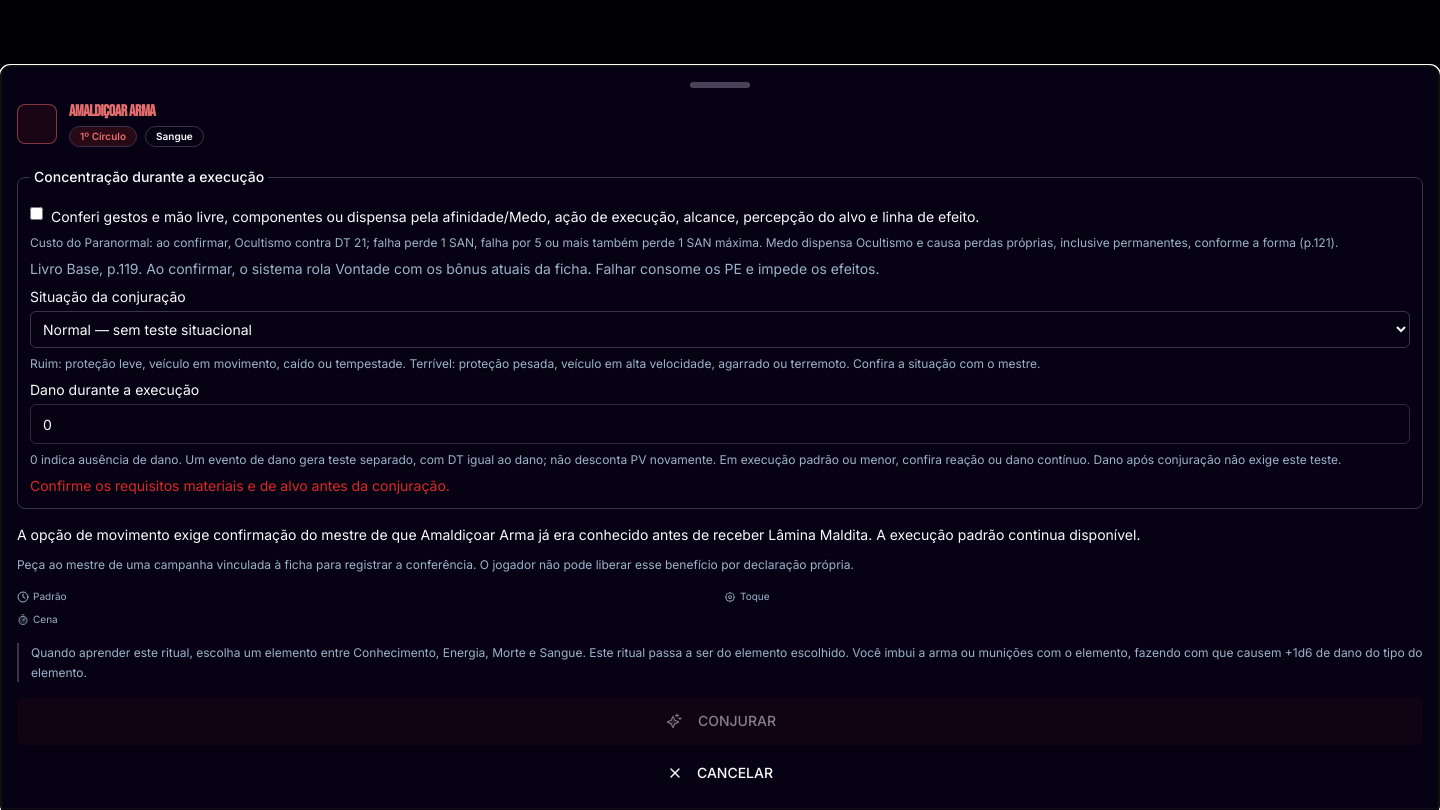
Scenario: Requisitos situacionais mobile › não libera movimento por Lâmina Maldita sem conferência histórica
Click the checkbox labelled "Conferi gestos" at x=36, y=213, box [30,207,43,220]
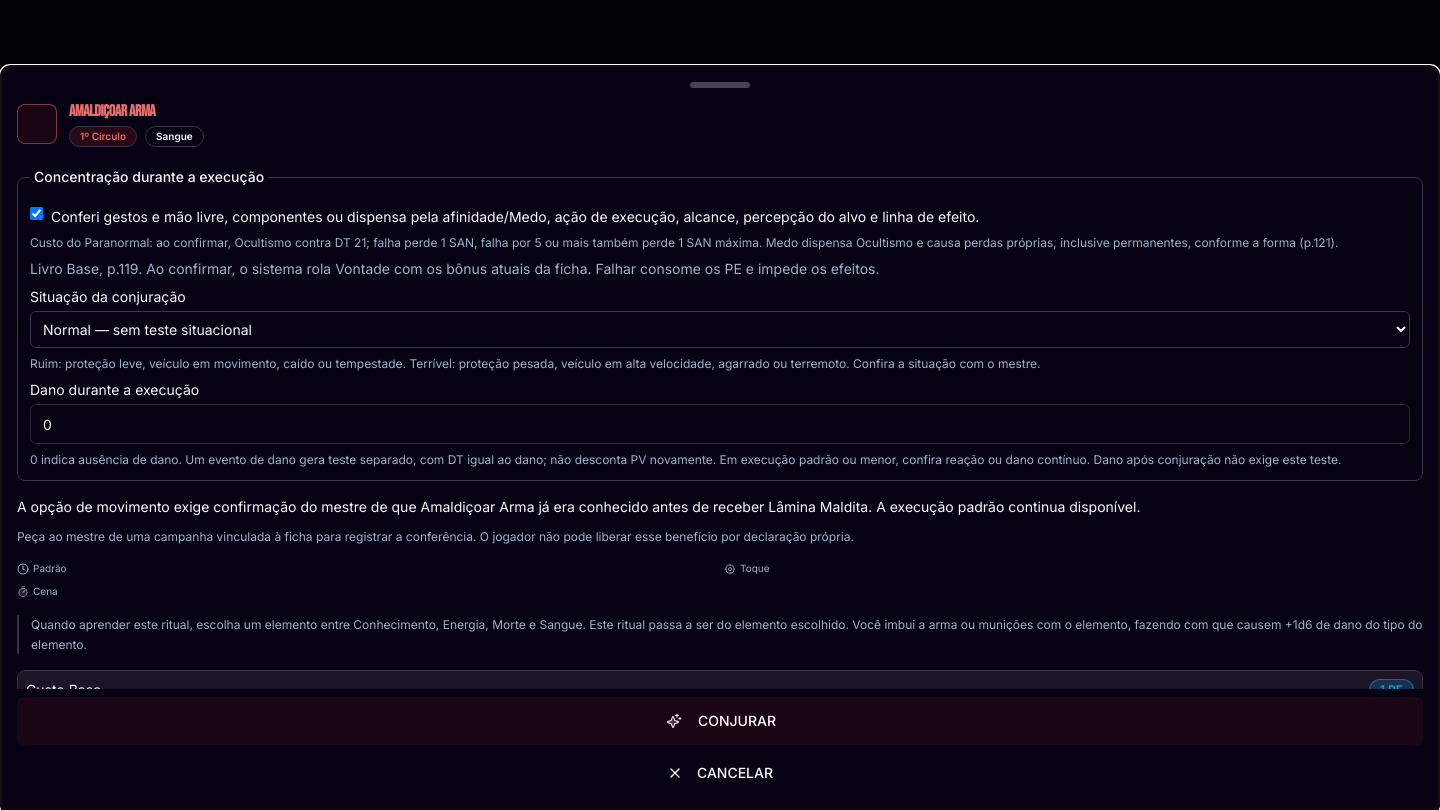
Check: the text "execução padrão continua" is shown, box [17,498,1140,515]
Check: the button "CONJURAR" is enabled, box [17,697,1423,745]
